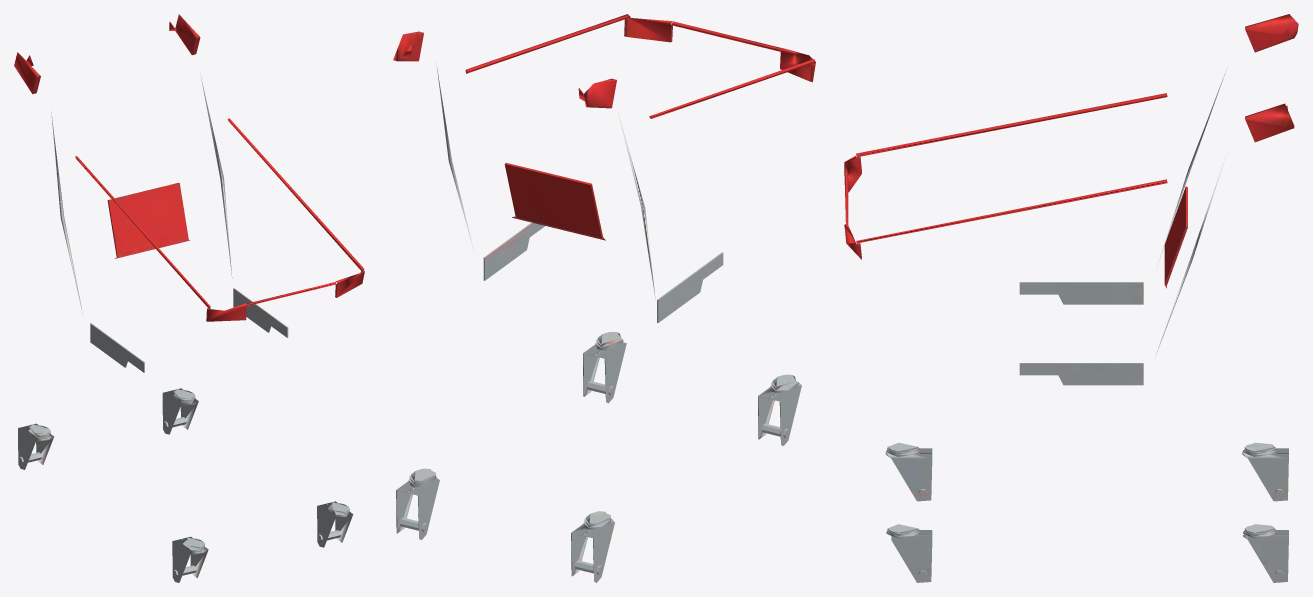
The model's file is trolley.lod0.glb.
The picture shows the model from 3 angles, left to right: view 1: azimuth 30°, elevation 25°; view 2: azimuth 150°, elevation 25°; view 3: azimuth 270°, elevation 25°; orthographic projection. The views are drawn at different scales.
Visible parts, largest first — view 1: Object_6; view 2: Object_6; view 3: Object_6.
Boxes of the visible parts, x1,y1,x2,y2 form: Object_6: (14,14,364,582); Object_6: (393,14,815,582); Object_6: (844,14,1298,582).
Size of the model in its own units: 0.4245 by 1.01 by 0.8696.
1 material, 1 textured.
